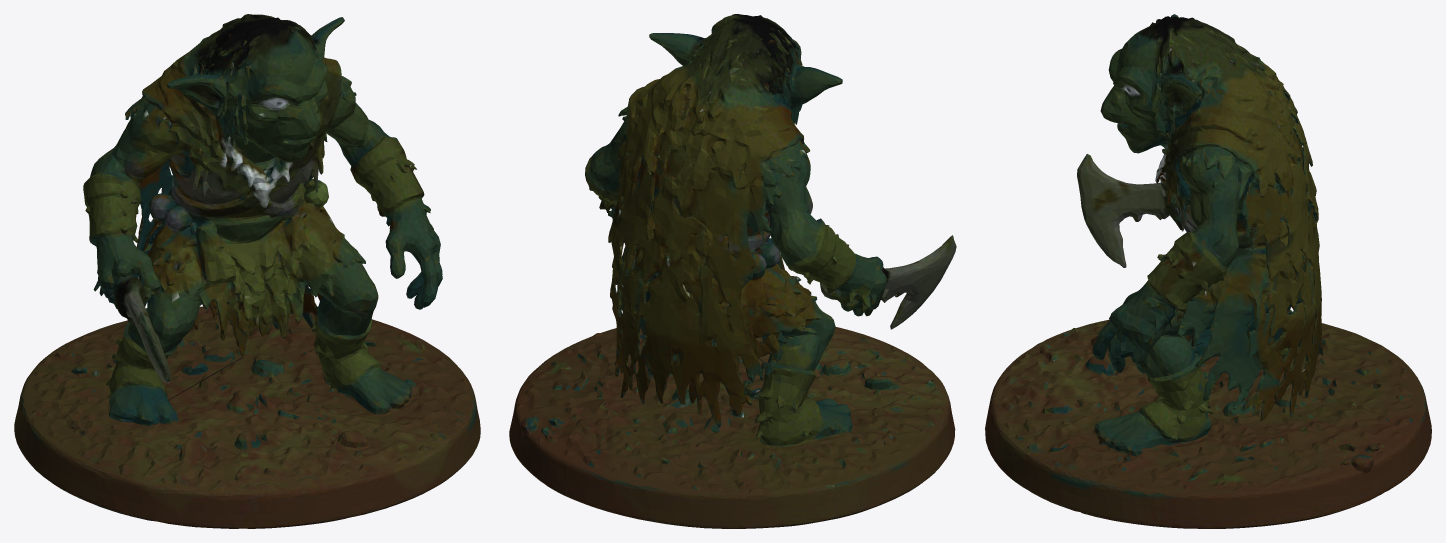
Rendered from goblinCombatente_machado_basico_sem_escudo.glb.
The picture shows the model from 3 angles, left to right: view 1: azimuth 30°, elevation 25°; view 2: azimuth 150°, elevation 25°; view 3: azimuth 270°, elevation 25°; orthographic projection. The views are drawn at different scales.
Parts seen in each view (by area): view 1: tmpzil0guyd.ply; view 2: tmpzil0guyd.ply; view 3: tmpzil0guyd.ply.
Part boxes in pixels (x1,y1,x2,y2): tmpzil0guyd.ply: (14,14,480,528); tmpzil0guyd.ply: (509,14,956,528); tmpzil0guyd.ply: (985,14,1431,528).
Size of the model in its own units: 1.94 by 1.96 by 1.91.
1 material, 1 textured.
